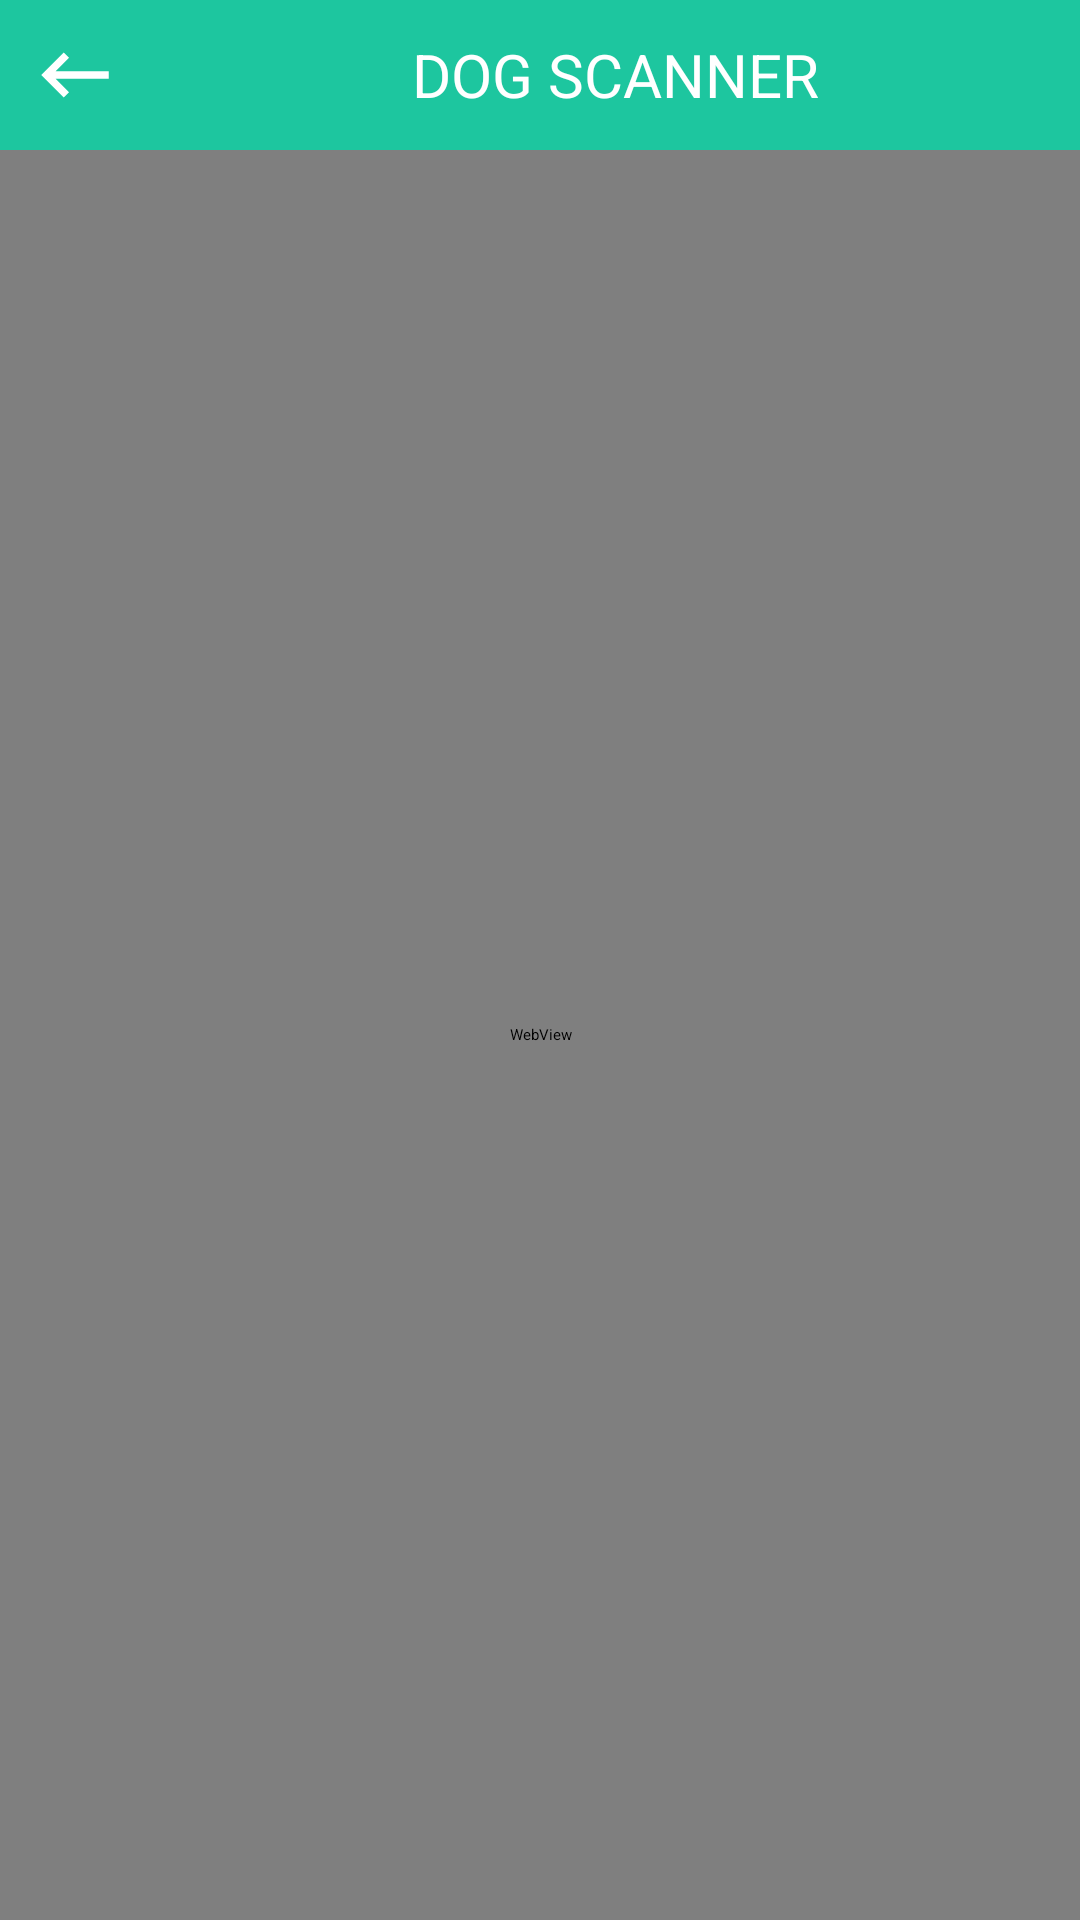

Screen size 1080x1920. Icon name, then its center in pixels as (x,y):
keyboard backspace: (75,75)
